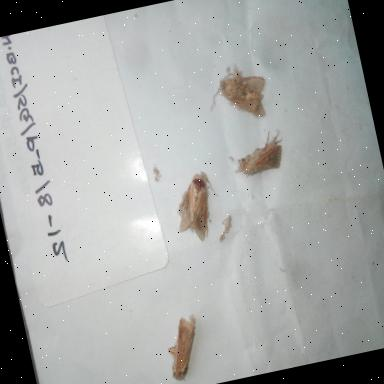abw: (164, 164, 230, 248), (200, 57, 274, 130), (157, 309, 214, 384), (224, 125, 292, 184)
